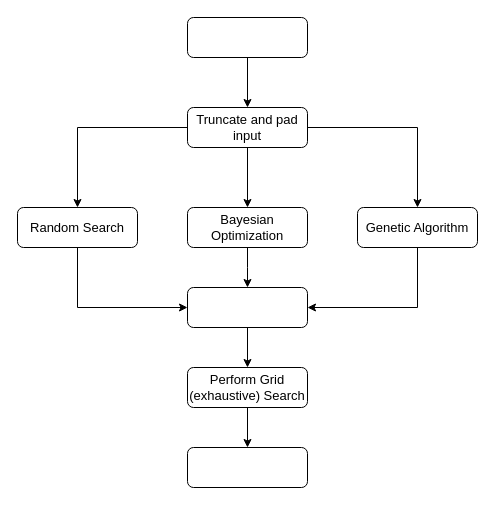
This 495x505 diagram has some shape labels left out. The box of each missing label's shape, as (x1, y1, x2, y2) in pixels:
Generate a list of best parameters: (186, 286, 308, 328)
Load Dataset: (186, 16, 308, 58)
Select best paramters: (186, 446, 308, 488)
